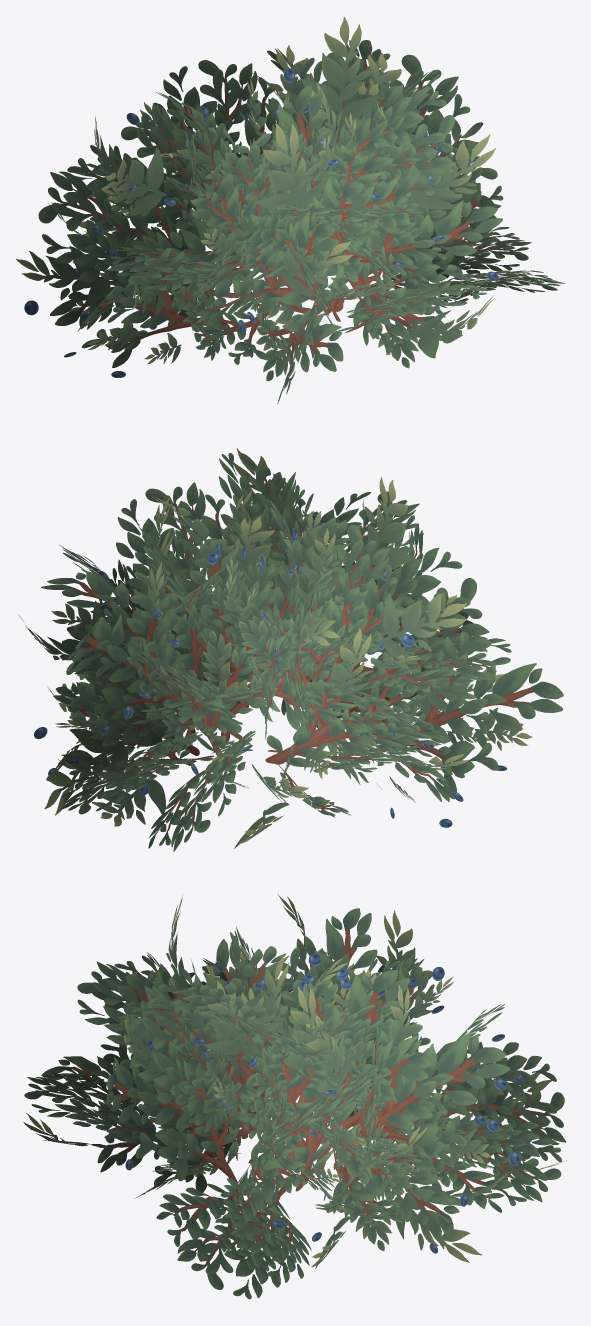
Rendered from berryBush_2.fbx.
3 views of the same model, one above another, from view 1: azimuth 30°, elevation 25°; view 2: azimuth 150°, elevation 25°; view 3: azimuth 270°, elevation 25° (orthographic).
Parts seen in each view (by area): view 1: bushBerry_2; view 2: bushBerry_2; view 3: bushBerry_2.
Boxes of the visible parts, x1,y1,x2,y2 form: bushBerry_2: (16,17,564,403); bushBerry_2: (19,448,563,851); bushBerry_2: (23,894,566,1299).
Size of the model in its own units: 325 by 180 by 318.
1 material, 1 textured.
